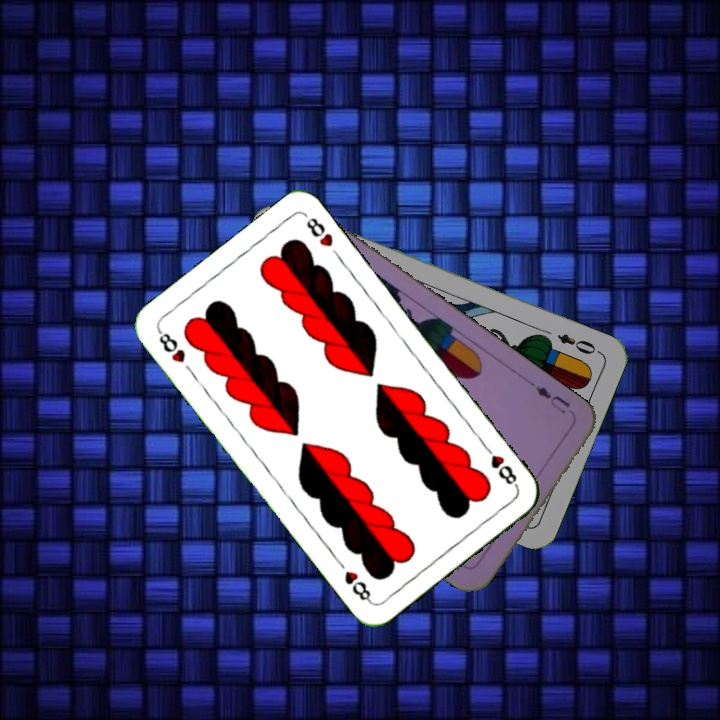EO: (553, 329, 603, 357)
EU: (531, 381, 573, 416)
H8: (479, 440, 521, 490), (153, 326, 188, 366)
